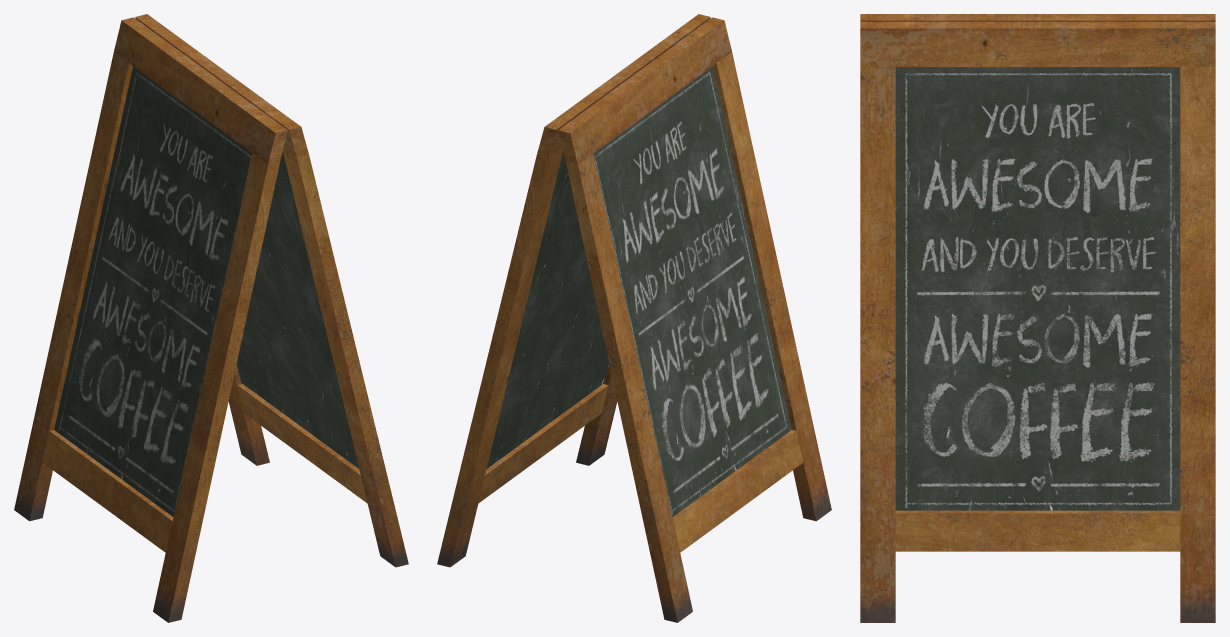
The picture shows the model from 3 angles, left to right: view 1: azimuth 30°, elevation 25°; view 2: azimuth 150°, elevation 25°; view 3: azimuth 270°, elevation 25°; orthographic projection. The views are drawn at different scales.
Parts seen in each view (by area): view 1: defaultMaterial; view 2: defaultMaterial; view 3: defaultMaterial.
Boxes of the visible parts, box(x1,y1,x2,y2) form: defaultMaterial: box(14, 14, 408, 622); defaultMaterial: box(437, 14, 831, 622); defaultMaterial: box(860, 14, 1215, 622).
Bounding box in the file's own units: 1.09 × 2 × 1.21.
1 material, 1 textured.
